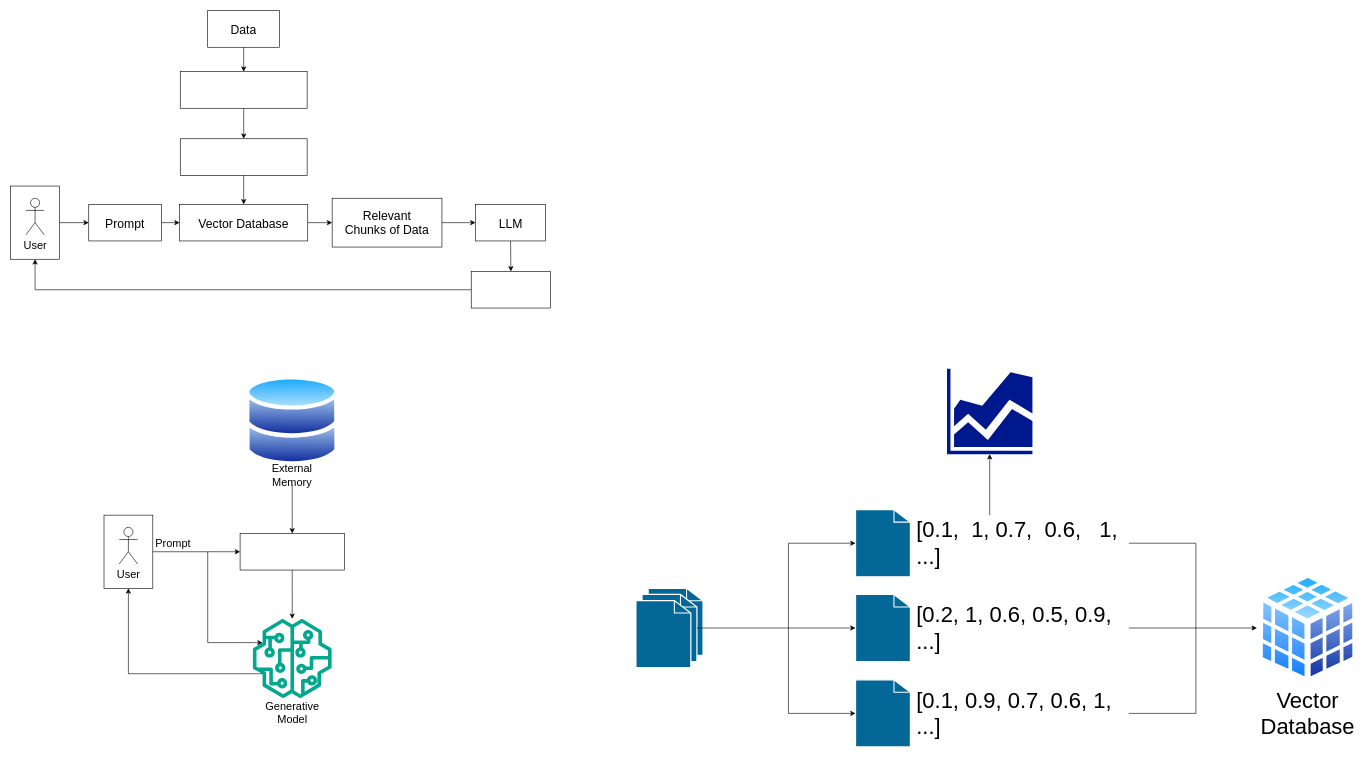
The diagram is 1369 pixels wide and 758 high, and some of its shapes have lost their labels. Each missing label, with the centre of its shape:
"Converted into embeddings" goes at (243,156).
"Data splitted in chunks" goes at (243,89).
"Response" goes at (511,289).
"Retriever" goes at (291,551).
